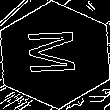M_E: (25, 30, 85, 80)
